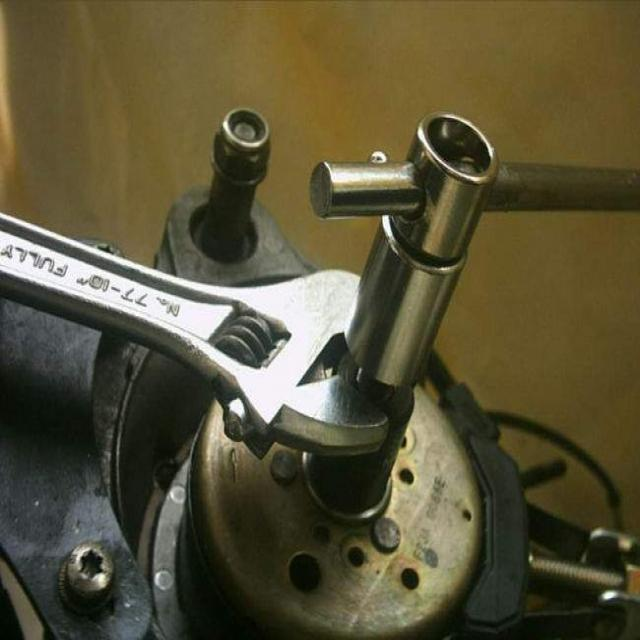wrench: (0, 199, 396, 462)
